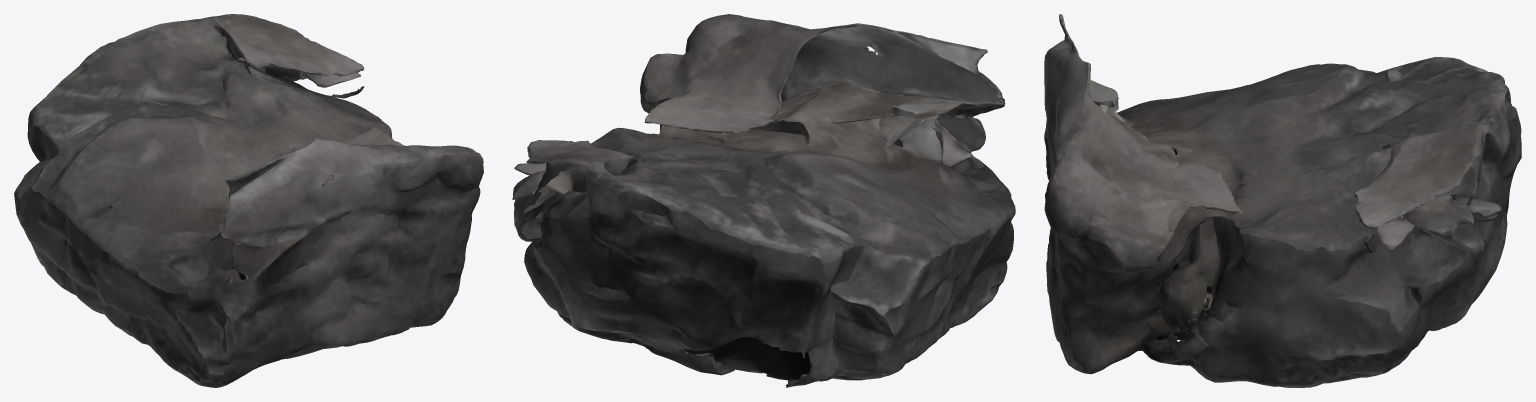
3 renders of one model, left to right at view 1: azimuth 30°, elevation 25°; view 2: azimuth 150°, elevation 25°; view 3: azimuth 270°, elevation 25°, orthographic. The views are drawn at different scales.
Parts seen in each view (by area): view 1: world; view 2: world; view 3: world.
Boxes of the visible parts, left/top/right/bottom form: world: left=14, top=14, right=483, bottom=387; world: left=512, top=14, right=1015, bottom=387; world: left=1044, top=14, right=1521, bottom=387.
Bounding box in the file's own units: 4.5 × 2.74 × 4.58.
Materials: 1 (1 with a texture image).
